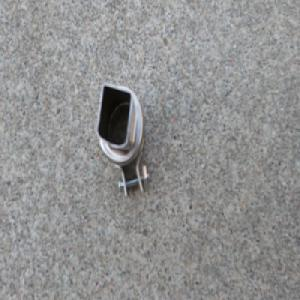MetalPart: (92, 76, 151, 202)
